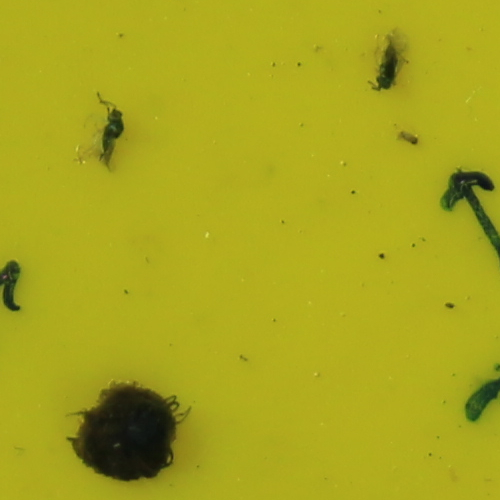wasp: (377, 34, 403, 90)
